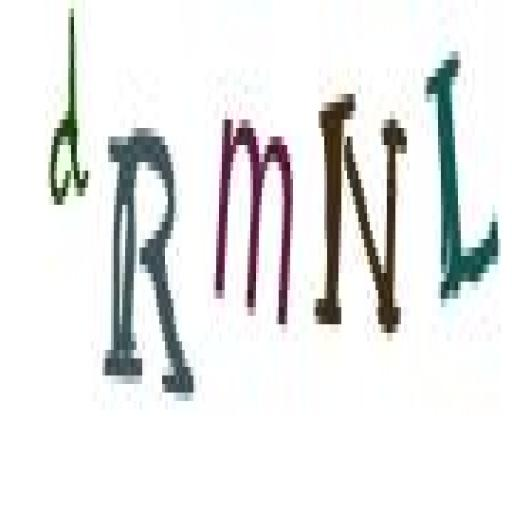L: (421, 32, 505, 317)
N: (313, 73, 410, 358)
R: (100, 109, 198, 419)
d: (43, 1, 93, 226)
m: (212, 98, 300, 334)
